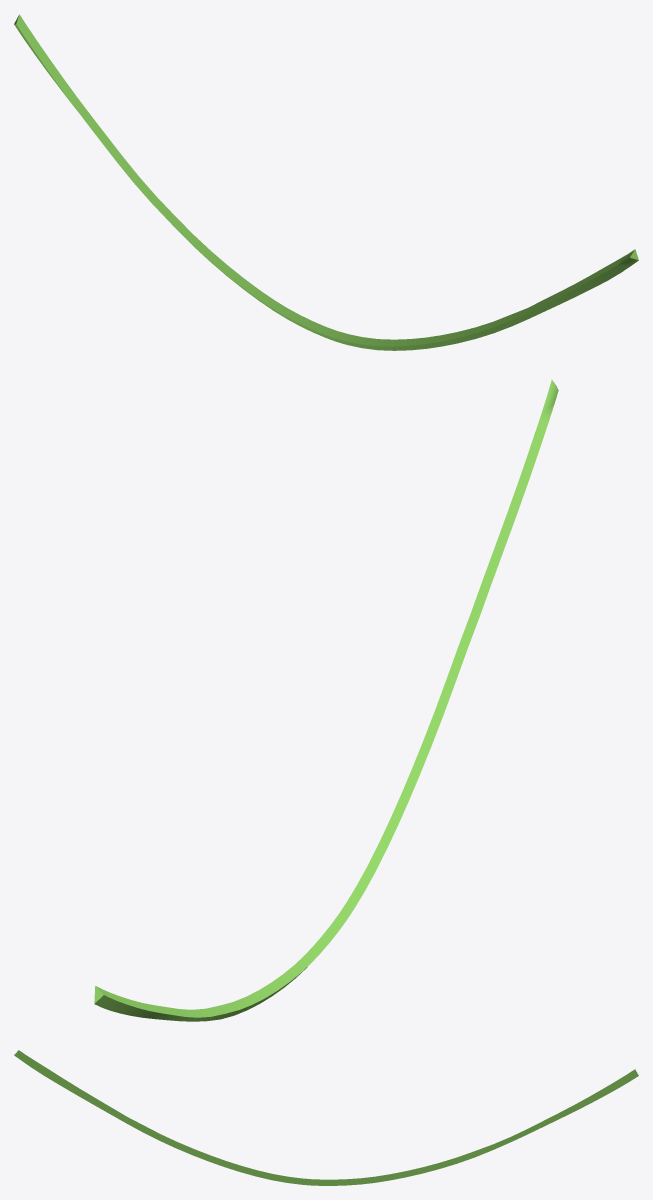
The model's file is lianas_B.fbx.
3 views of the same model, one above another, from view 1: azimuth 30°, elevation 25°; view 2: azimuth 150°, elevation 25°; view 3: azimuth 270°, elevation 25° (orthographic). The views are drawn at different scales.
Parts seen in each view (by area): view 1: liana_B_thick; view 2: liana_B_thick; view 3: liana_B, liana_B_thick.
Part boxes in pixels (x1,y1,x2,y2): liana_B_thick: [14, 14, 638, 350]; liana_B_thick: [94, 379, 558, 1021]; liana_B: [17, 1057, 638, 1185]; liana_B_thick: [14, 1050, 636, 1185].
Bounding box in the file's own units: 44.55 × 81.01 × 290.
